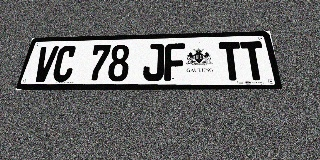7: (86, 45, 111, 82)
8: (107, 44, 131, 81)
C: (50, 46, 78, 82)
F: (164, 43, 185, 81)
J: (142, 44, 164, 81)
T: (240, 41, 268, 80), (218, 42, 244, 80)
V: (31, 46, 59, 82)
